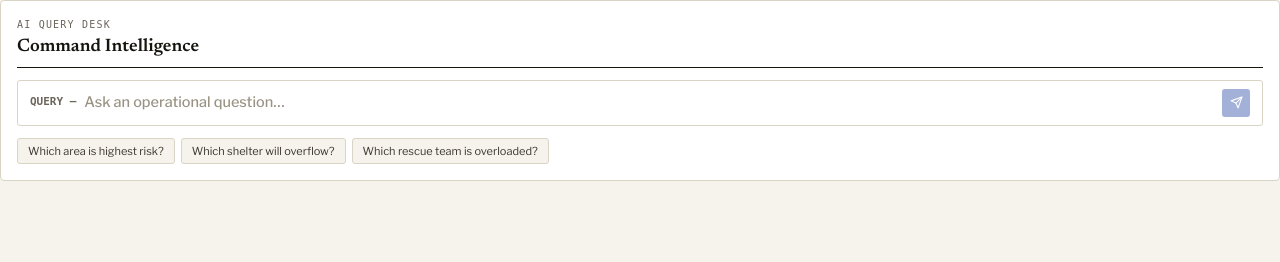
CommandPanel › submits via an example quick-button
The image size is (1280, 262).
Click the button "Which shelter will overflow?": (263, 151) [181,138,346,164]
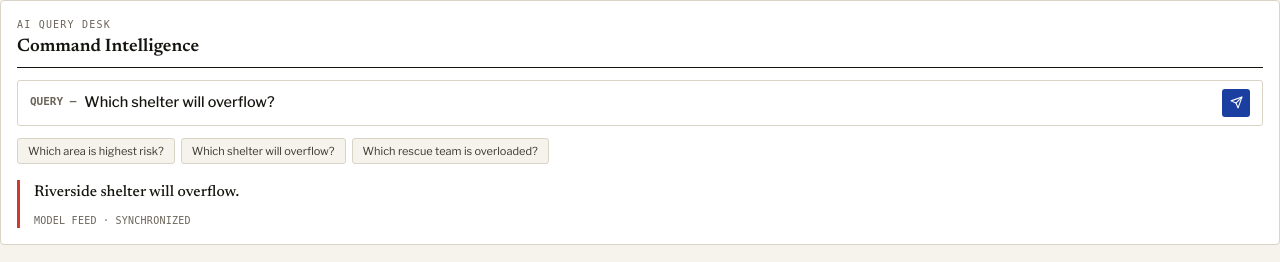
Result: the text "Riverside shelter will overflow." is shown at [34,185,239,200]
